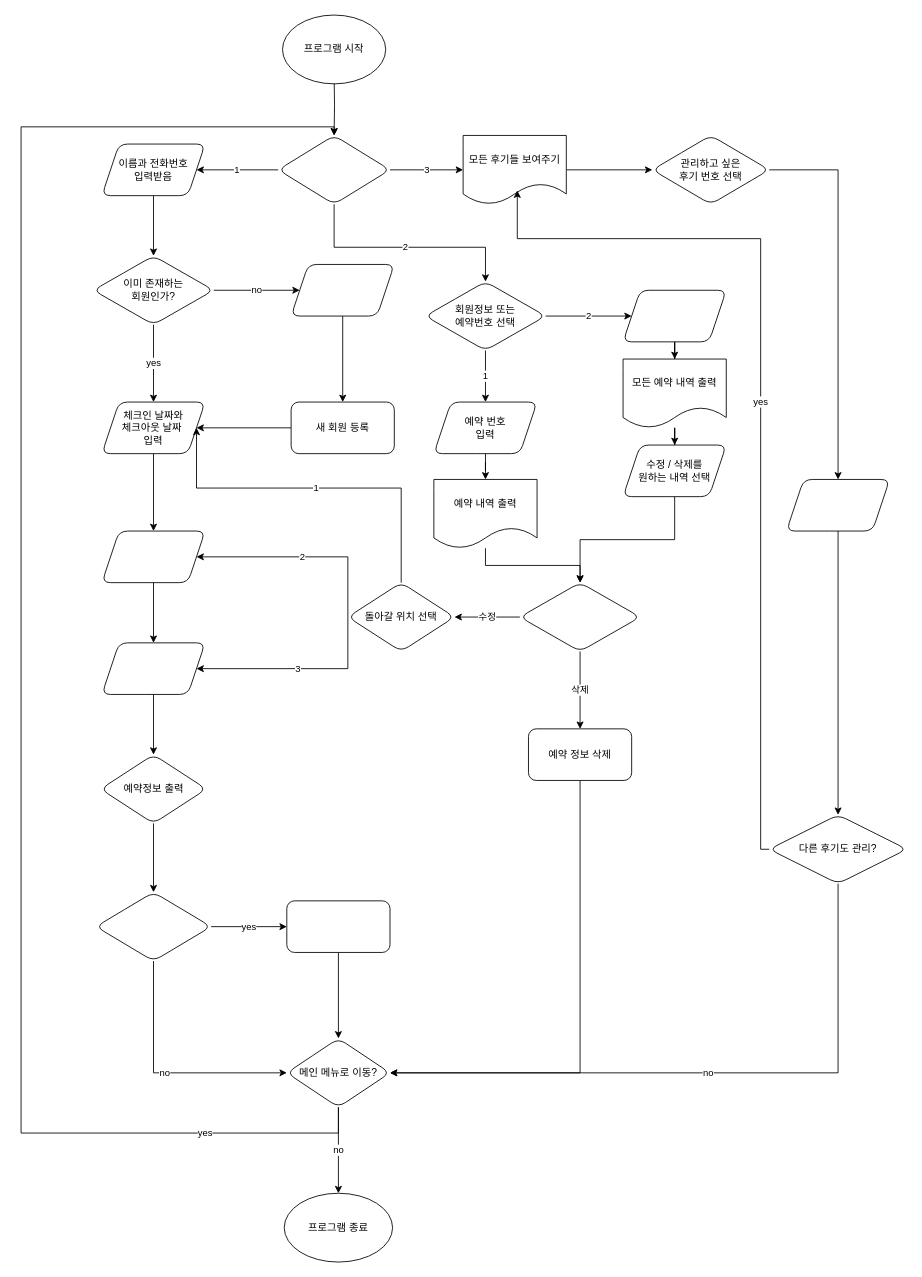
Some shapes in this 922 by 1277 pixel diagram are drawn without their labels. Each missing label, with the box of its shape:
1. 예약 2. 예약 수정 / 취소 3. 후기 관리: (277, 135, 390, 204)
답변 작성: (786, 479, 890, 531)
성별, email 입력받음: (290, 264, 394, 316)
수정 혹은 삭제: (519, 582, 640, 651)
숙박 확정: (95, 891, 211, 961)
예약처리, 마일리지 증가 시간 경과창: (286, 900, 390, 952)
인원수 선택: (101, 642, 205, 694)
해당 일자에 빈 객실 선택: (101, 530, 205, 583)
회원 정보 입력: (622, 289, 726, 342)
